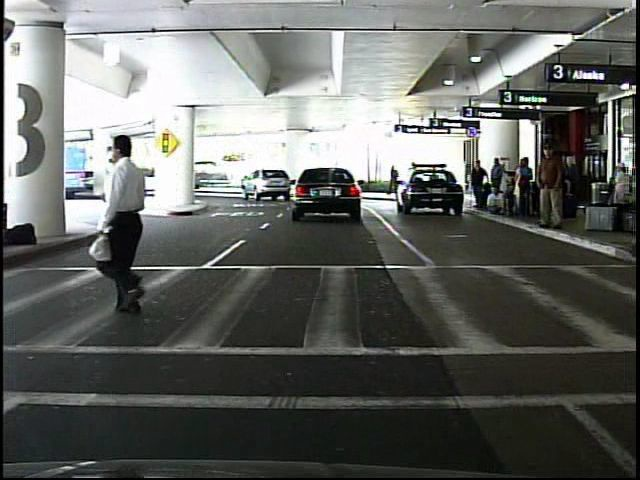person: (75, 127, 192, 313), (533, 142, 568, 233), (470, 159, 488, 211), (386, 164, 399, 196), (133, 164, 134, 189)
